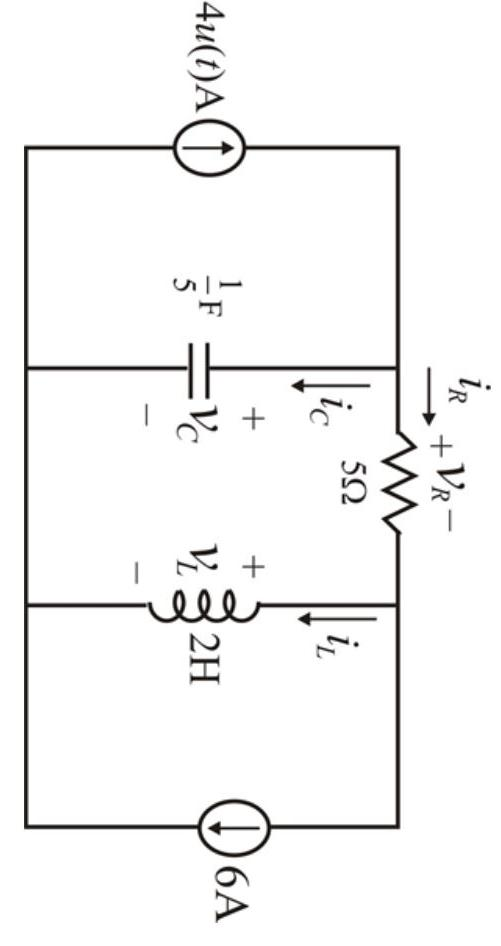inductor: (122, 581, 283, 640)
